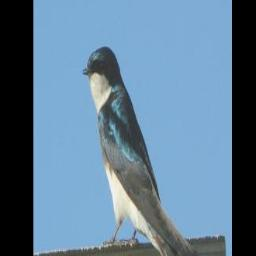Swallow: (81, 43, 200, 256)
